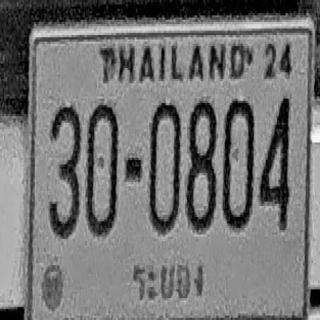N00: (86, 102, 118, 236), (222, 97, 254, 228), (149, 99, 180, 232)
N03: (49, 103, 81, 237)
N04: (259, 95, 290, 229)
N08: (186, 99, 216, 230)
P53: (128, 257, 208, 307)
